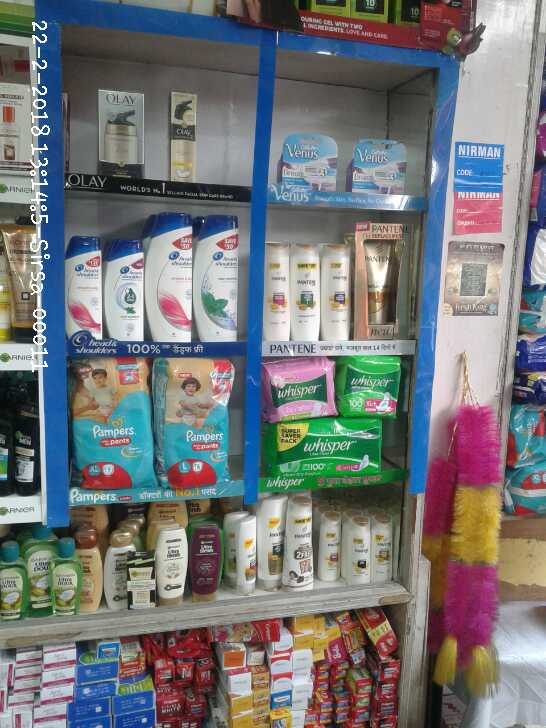venus: (352, 138, 408, 195), (282, 134, 338, 191)
